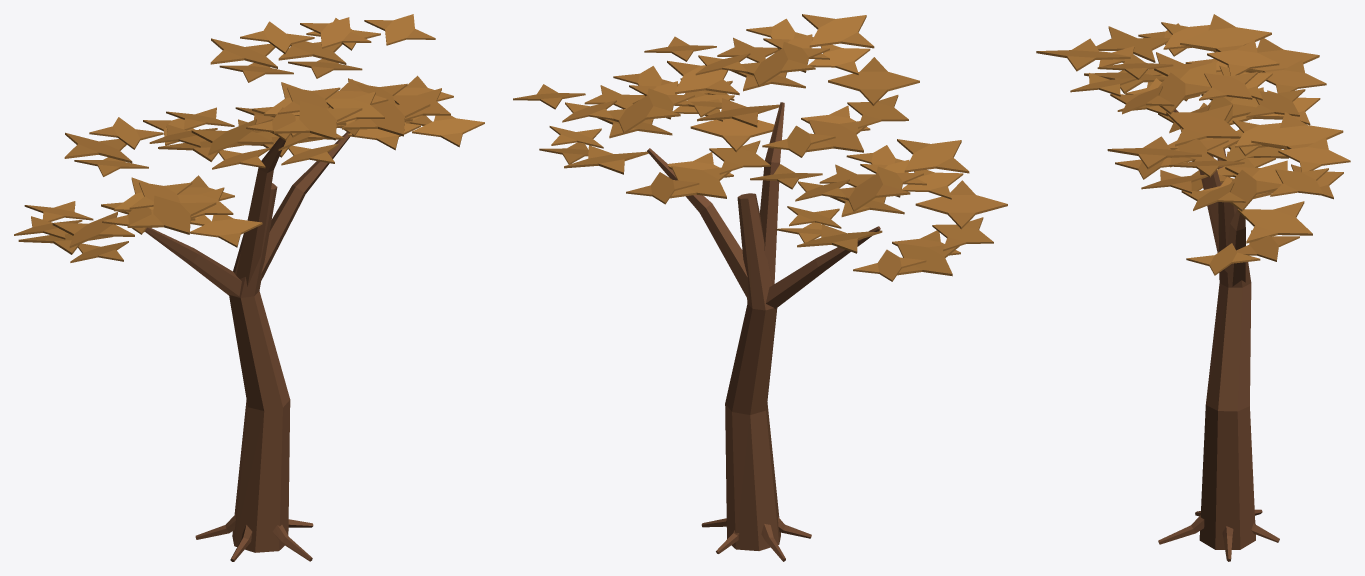
The model's file is Plant_Common_AutumnMaple_001_LOD1.glb.
3 renders of one model, left to right at view 1: azimuth 30°, elevation 25°; view 2: azimuth 150°, elevation 25°; view 3: azimuth 270°, elevation 25°, orthographic. The views are drawn at different scales.
Visible parts, largest first — view 1: Plant_Common_AutumnMaple_001_LOD1; view 2: Plant_Common_AutumnMaple_001_LOD1; view 3: Plant_Common_AutumnMaple_001_LOD1.
Boxes of the visible parts, x1=… form: Plant_Common_AutumnMaple_001_LOD1: x1=14, y1=14, x2=484, y2=561; Plant_Common_AutumnMaple_001_LOD1: x1=513, y1=14, x2=1007, y2=561; Plant_Common_AutumnMaple_001_LOD1: x1=1036, y1=14, x2=1350, y2=561.
Size of the model in its own units: 5.63 by 5.78 by 3.3.
